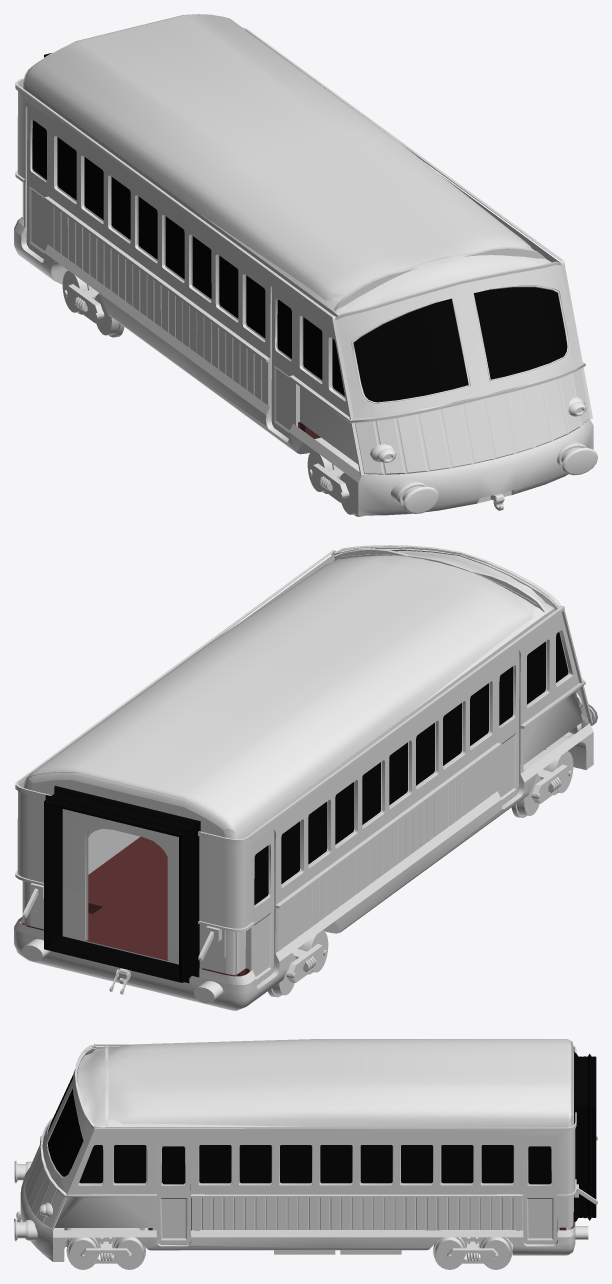
File: vagone.fbx
3 renders of one model, top to bottom at view 1: azimuth 30°, elevation 25°; view 2: azimuth 150°, elevation 25°; view 3: azimuth 270°, elevation 25°, orthographic. The views are drawn at different scales.
Parts seen in each view (by area): view 1: Tetto, Carrozzeria_esterna, Vetri, Carrrozzeria_sotto, Parete_interno, Finestre, Porta_sx_posteriore, Porta_sx_anteriore; view 2: Tetto, Carrozzeria_esterna, Carrrozzeria_sotto, Aggangio, Parete_interno, Vetri, Pavimento, Stipite_posteriore, Finestre, Porta_sx_posteriore, Porta_sx_anteriore; view 3: Tetto, Carrozzeria_esterna, Carrrozzeria_sotto, Vetri, Parete_interno, Aggangio, Finestre, Porta_dx_posteriore, Porta_dx_anteriore.001.
Boxes of the visible parts, x1,y1,x2,y2 form: Tetto: [25, 14, 540, 310]; Carrozzeria_esterna: [15, 27, 592, 474]; Vetri: [57, 137, 567, 402]; Carrrozzeria_sotto: [14, 217, 597, 516]; Parete_interno: [23, 75, 551, 463]; Finestre: [32, 119, 568, 403]; Porta_sx_posteriore: [32, 120, 46, 179]; Porta_sx_anteriore: [276, 299, 291, 358]; Tetto: [27, 551, 541, 838]; Carrozzeria_esterna: [15, 545, 592, 984]; Carrrozzeria_sotto: [14, 704, 597, 1010]; Aggangio: [44, 786, 200, 983]; Parete_interno: [24, 548, 582, 974]; Vetri: [281, 632, 568, 884]; Pavimento: [21, 787, 518, 983]; Stipite_posteriore: [22, 772, 236, 976]; Finestre: [254, 631, 569, 906]; Porta_sx_posteriore: [254, 845, 268, 905]; Porta_sx_anteriore: [499, 666, 513, 725]; Tetto: [77, 1039, 573, 1126]; Carrozzeria_esterna: [25, 1044, 597, 1244]; Carrrozzeria_sotto: [14, 1161, 588, 1269]; Vetri: [47, 1075, 513, 1183]; Parete_interno: [54, 1045, 573, 1227]; Aggangio: [574, 1052, 596, 1221]; Finestre: [46, 1066, 552, 1185]; Porta_dx_posteriore: [528, 1146, 557, 1233]; Porta_dx_anteriore.001: [161, 1146, 190, 1190].
Bounding box in the file's own units: 448 × 412 × 1287.
